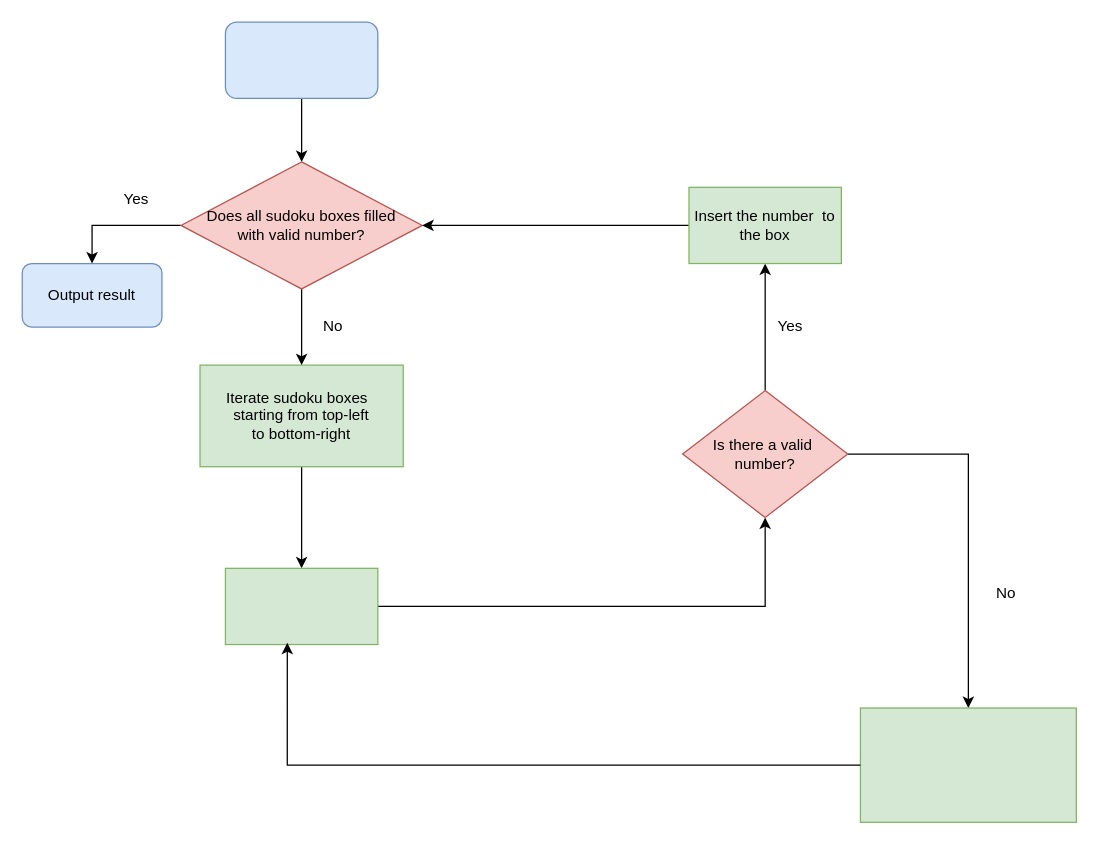
Image size: 1099x845. Some labels were removed from this diagram. The centre of each missing label's shape, as x and y in pixels:
"Empty the previous filled box, Go back to the previous position." goes at [967,764].
"Start backtracking algorithm" goes at [301,59].
"Try putting 1-9 in the current box" goes at [301,606].
